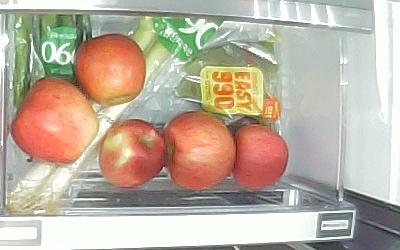apple: (9, 76, 100, 165), (162, 110, 236, 193), (74, 34, 146, 104), (99, 119, 166, 188), (233, 124, 289, 191)
